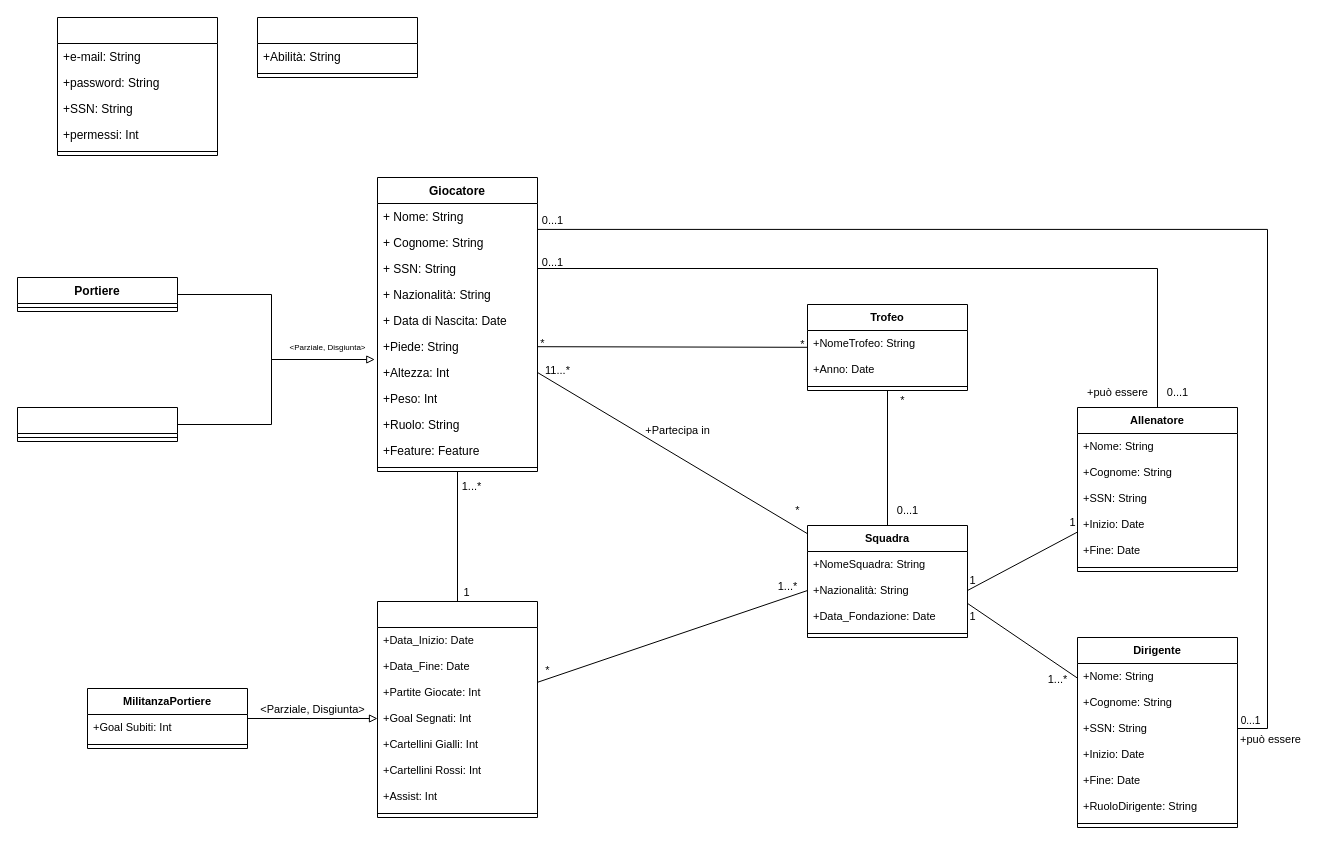
This 1328x845 diagram has some shape labels left out. Each missing label, with the box of its shape:
Autenticazione: (56, 16, 218, 156)
Feature: (256, 16, 418, 78)
GiocatoreDiRuolo: (16, 406, 178, 442)
Militanza: (376, 600, 538, 818)
